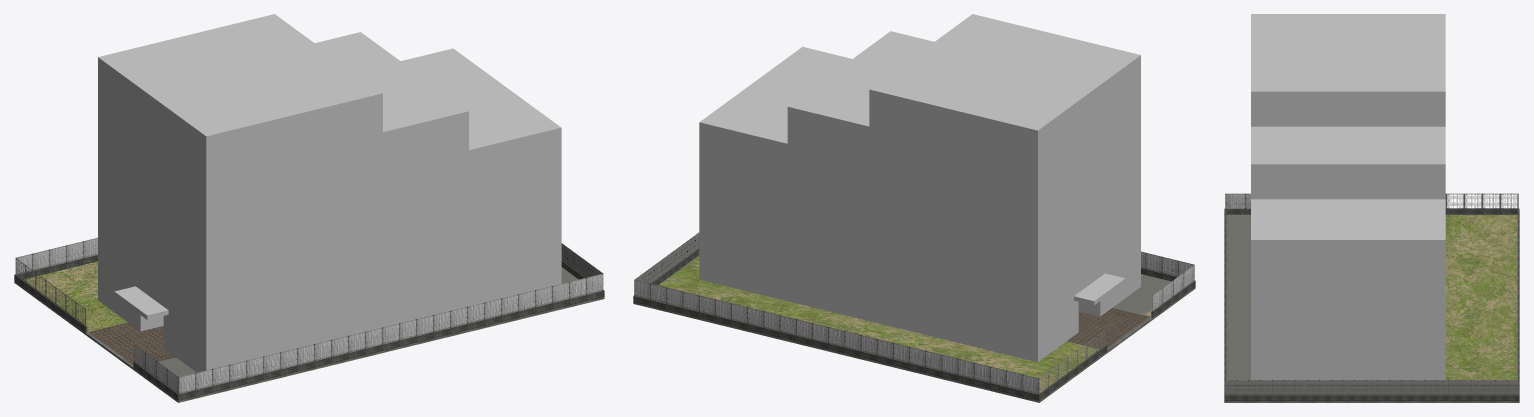
The model's file is Apartment_old_browntile.fbx.
3 renders of one model, left to right at view 1: azimuth 30°, elevation 25°; view 2: azimuth 150°, elevation 25°; view 3: azimuth 270°, elevation 25°, orthographic. The views are drawn at different scales.
Parts seen in each view (by area): view 1: 100_Apartment_old_browntile, 101_Apartment_old_browntile_sidewall, 200_Fence_Apartment_old_browntile, 000_Site_Apartment_old_browntile; view 2: 100_Apartment_old_browntile, 101_Apartment_old_browntile_sidewall, 200_Fence_Apartment_old_browntile, 000_Site_Apartment_old_browntile; view 3: 100_Apartment_old_browntile, 000_Site_Apartment_old_browntile, 200_Fence_Apartment_old_browntile.
Part boxes in pixels (x1=…): 100_Apartment_old_browntile: x1=98, y1=14, x2=561, y2=370; 101_Apartment_old_browntile_sidewall: x1=98, y1=57, x2=206, y2=372; 200_Fence_Apartment_old_browntile: x1=14, y1=237, x2=604, y2=400; 000_Site_Apartment_old_browntile: x1=14, y1=261, x2=604, y2=402; 100_Apartment_old_browntile: x1=699, y1=14, x2=1140, y2=362; 101_Apartment_old_browntile_sidewall: x1=1038, y1=55, x2=1140, y2=361; 200_Fence_Apartment_old_browntile: x1=633, y1=232, x2=1195, y2=400; 000_Site_Apartment_old_browntile: x1=633, y1=255, x2=1195, y2=402; 100_Apartment_old_browntile: x1=1251, y1=14, x2=1445, y2=379; 000_Site_Apartment_old_browntile: x1=1224, y1=214, x2=1519, y2=402; 200_Fence_Apartment_old_browntile: x1=1224, y1=193, x2=1519, y2=400.
Size of the model in its own units: 30 by 16.5 by 20.
